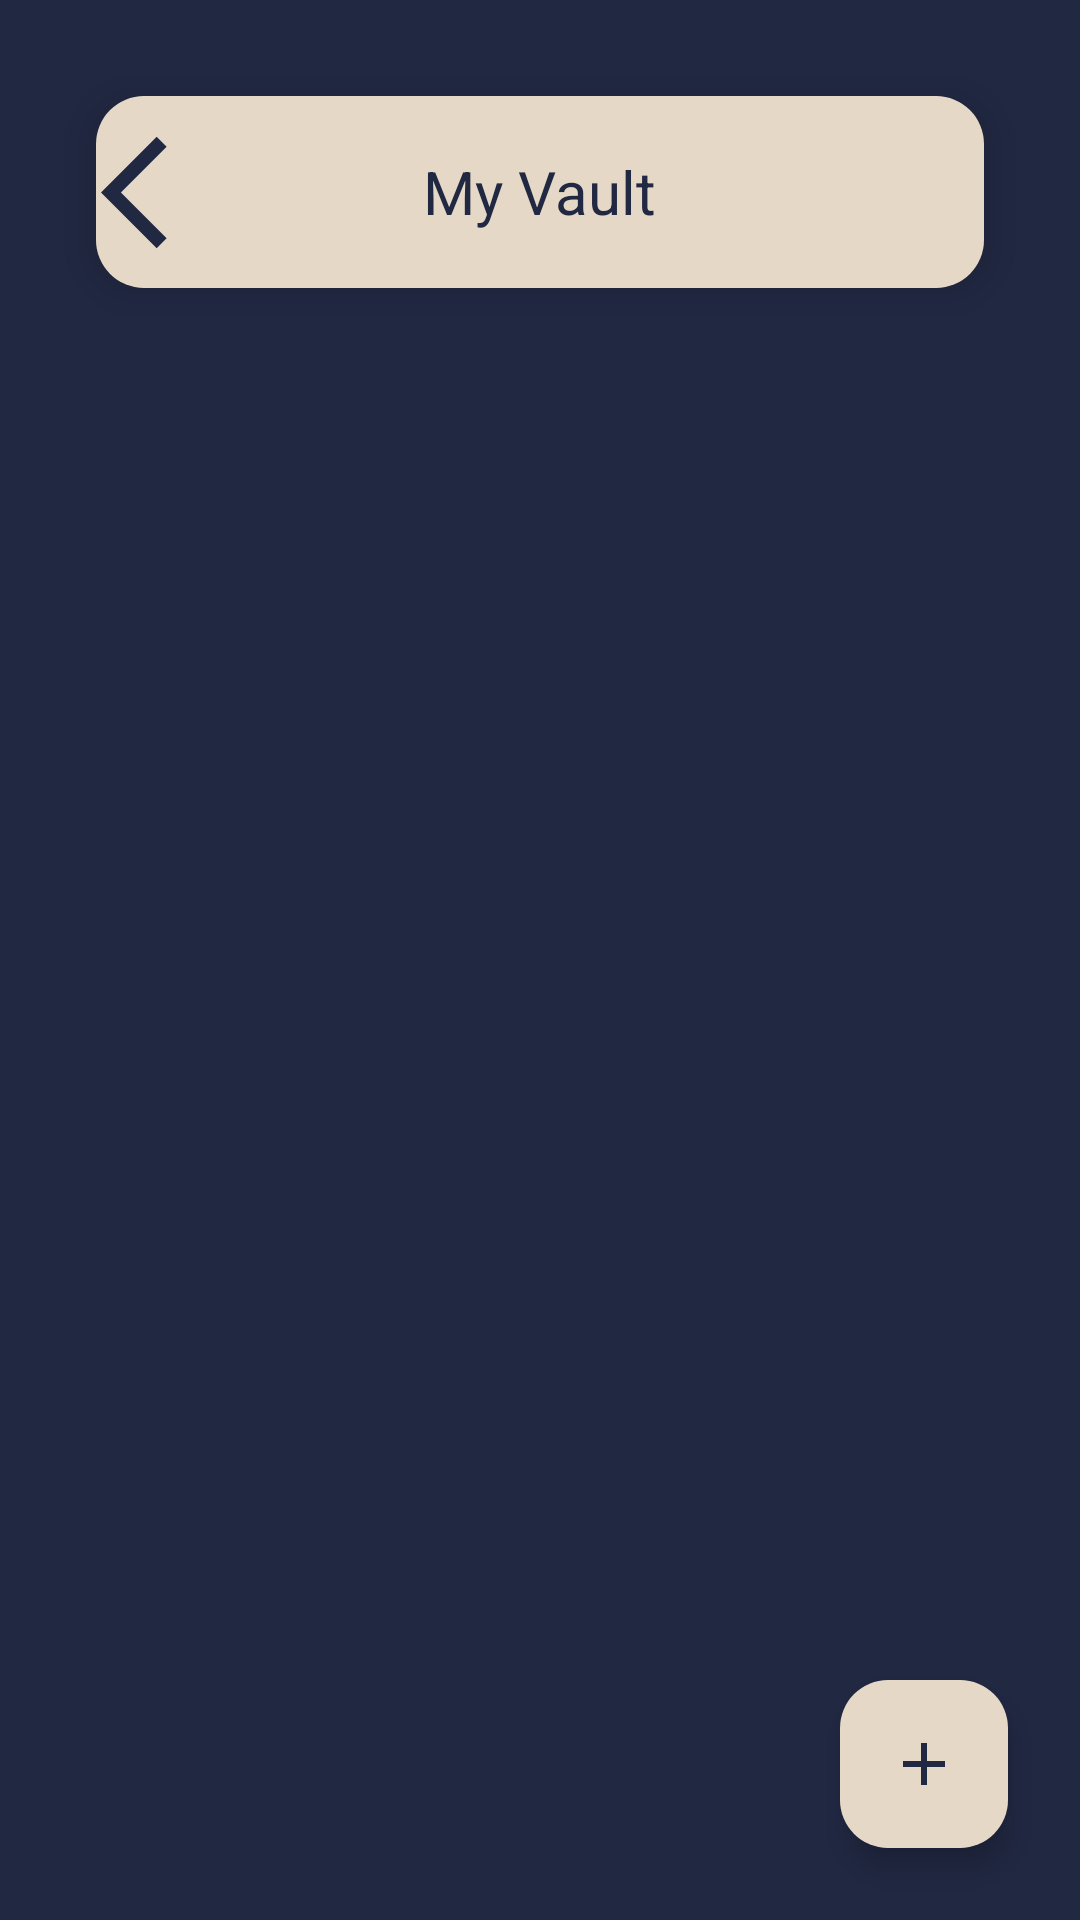

Icon bounding boxes for this 1080x1920 phone screenshot, format (x1, y1, x2, y2):
Add Note: (840, 1680, 1008, 1848)
Back: (101, 137, 167, 248)
